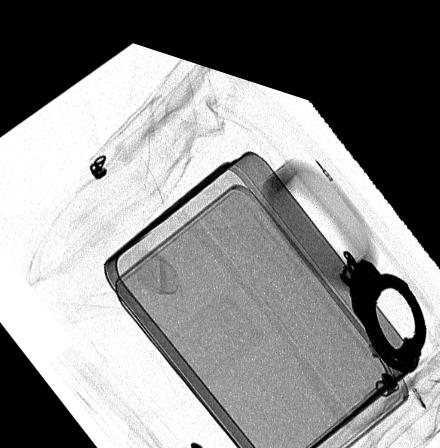HandCuffs: (336, 220, 428, 349)
